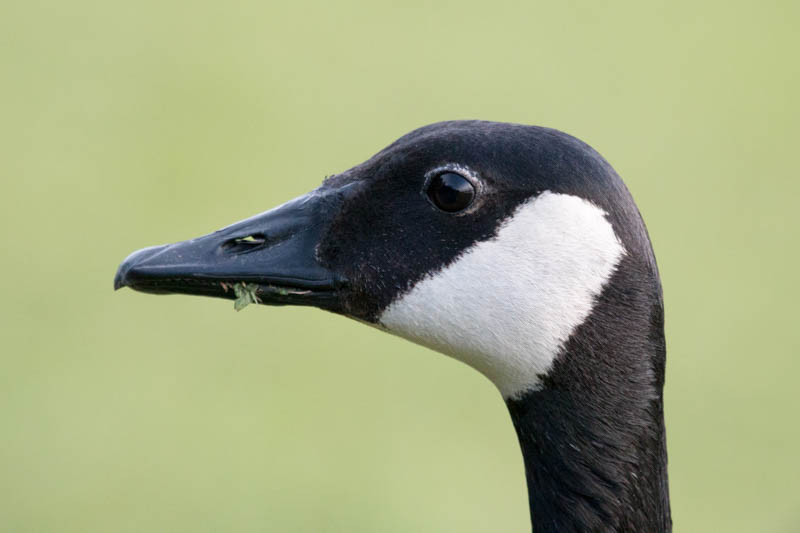goose-head: (113, 120, 667, 401)
